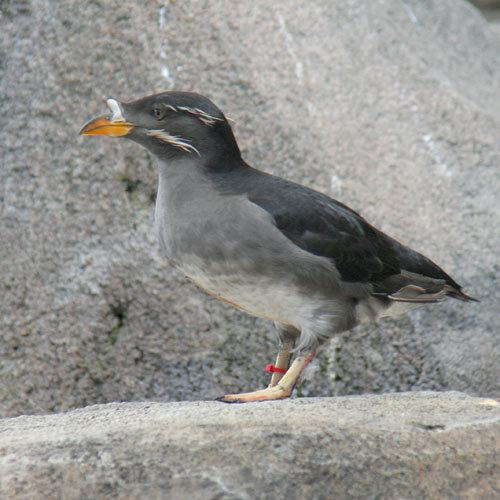008.Rhinoceros_Auklet: (76, 88, 479, 405)
